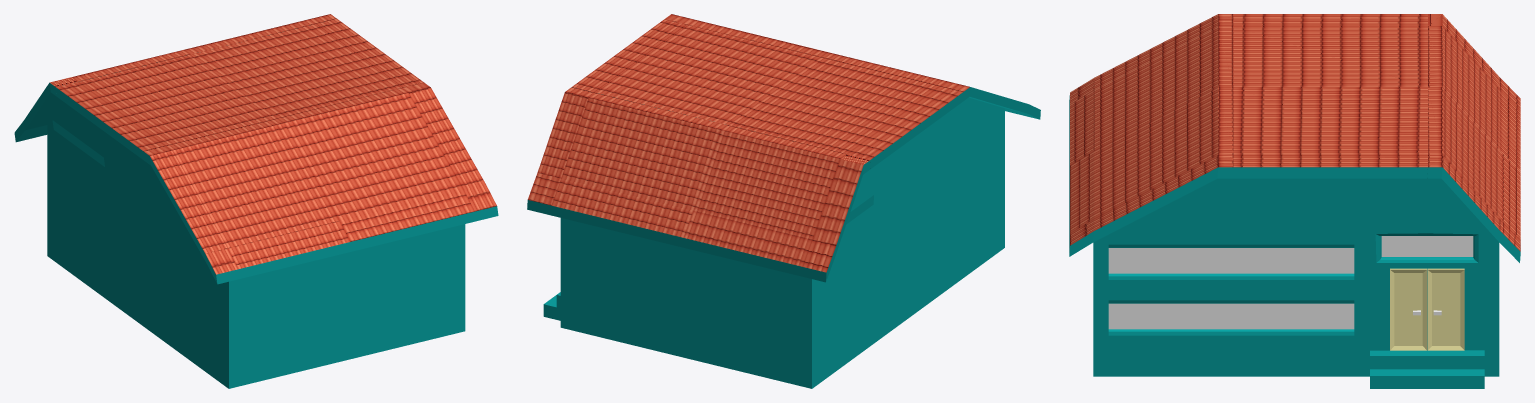
Rendered from Rumah Ketiga (1).fbx.
The picture shows the model from 3 angles, left to right: view 1: azimuth 30°, elevation 25°; view 2: azimuth 150°, elevation 25°; view 3: azimuth 270°, elevation 25°; orthographic projection. The views are drawn at different scales.
Visible parts, largest first — view 1: Cube.014; view 2: Cube.014; view 3: Cube.014, Cube.015, Cube.016.
Part boxes in pixels (left/top/right/bottom): Cube.014: left=14, top=14, right=498, bottom=388; Cube.014: left=527, top=14, right=1040, bottom=388; Cube.014: left=1069, top=14, right=1520, bottom=388; Cube.015: left=1390, top=268, right=1427, bottom=350; Cube.016: left=1427, top=268, right=1464, bottom=350.
Size of the model in its own units: 950 by 636 by 1178.
Materials: 7 (1 with a texture image).
